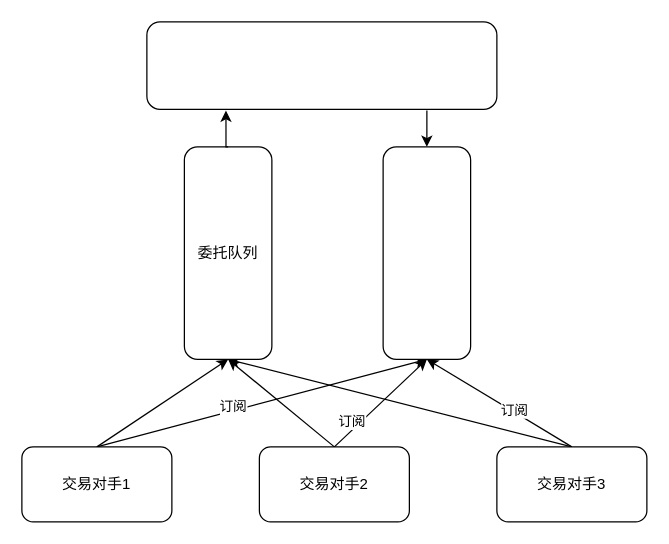
Image size: 669x544. Some labels were removed from this diagram. Here are the shapes that lost their labels. From the top down, the box of each, then its label:
(146, 21, 497, 109): 交易撮合系统
(382, 146, 471, 359): 成交队列
